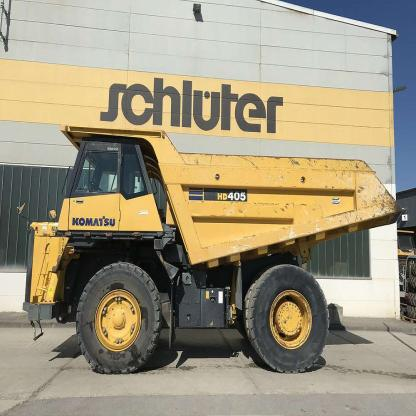dump_truck: (23, 116, 406, 373)
